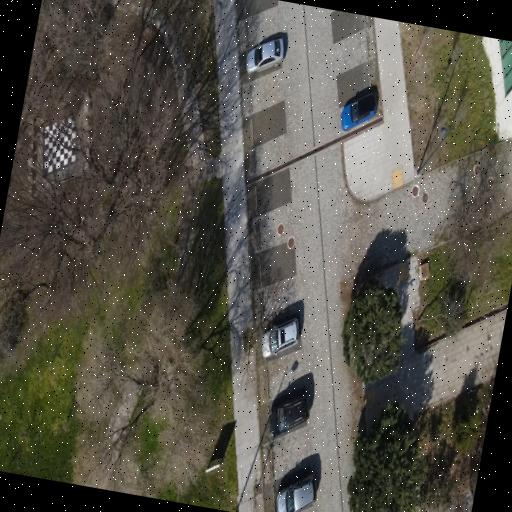person: (269, 390, 309, 438), (261, 319, 299, 358), (276, 474, 315, 511), (341, 92, 377, 131), (246, 39, 284, 74)
